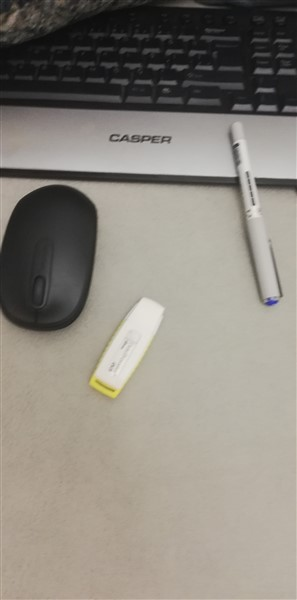flash disk: (85, 294, 165, 404)
klavye: (4, 2, 297, 179)
mouse: (1, 182, 104, 332)
pilot kalem: (226, 119, 284, 310)
